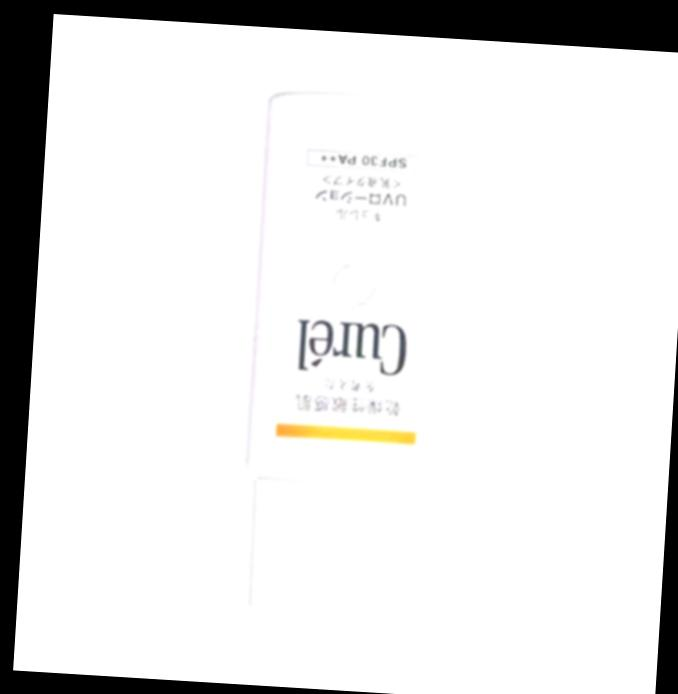cosmetic: (235, 94, 465, 624)
